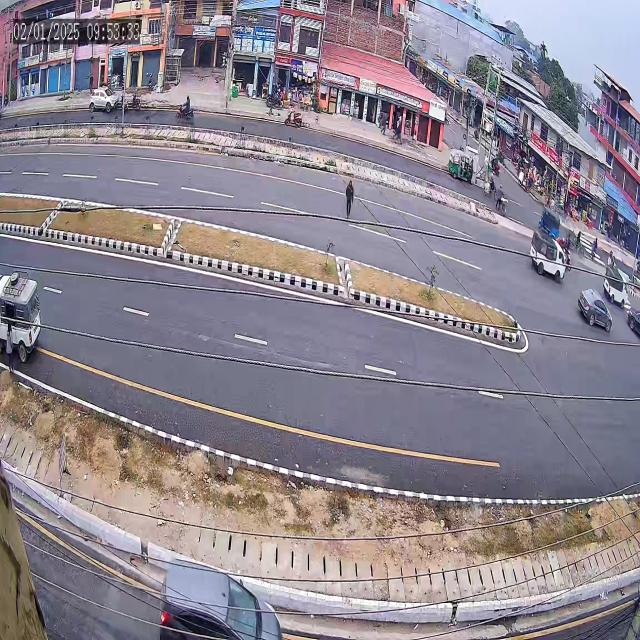car: (144, 535, 312, 640), (578, 279, 617, 342)
van: (0, 245, 68, 372), (524, 227, 570, 289), (602, 258, 636, 312)
